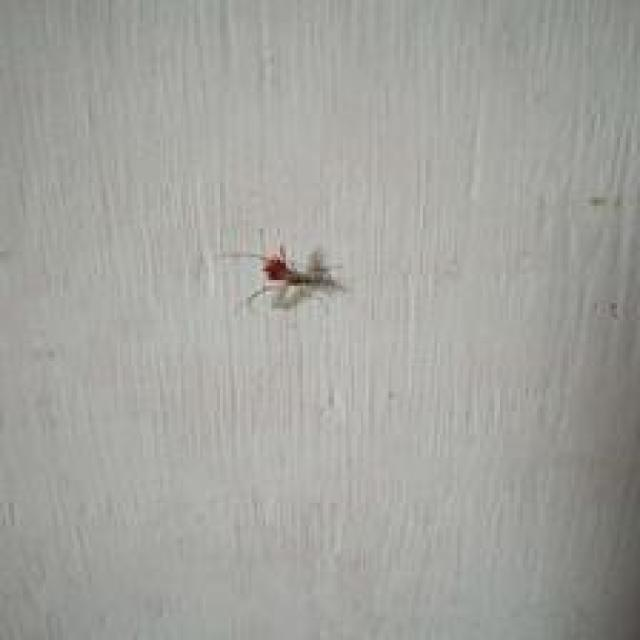Culex: (217, 234, 349, 312)
